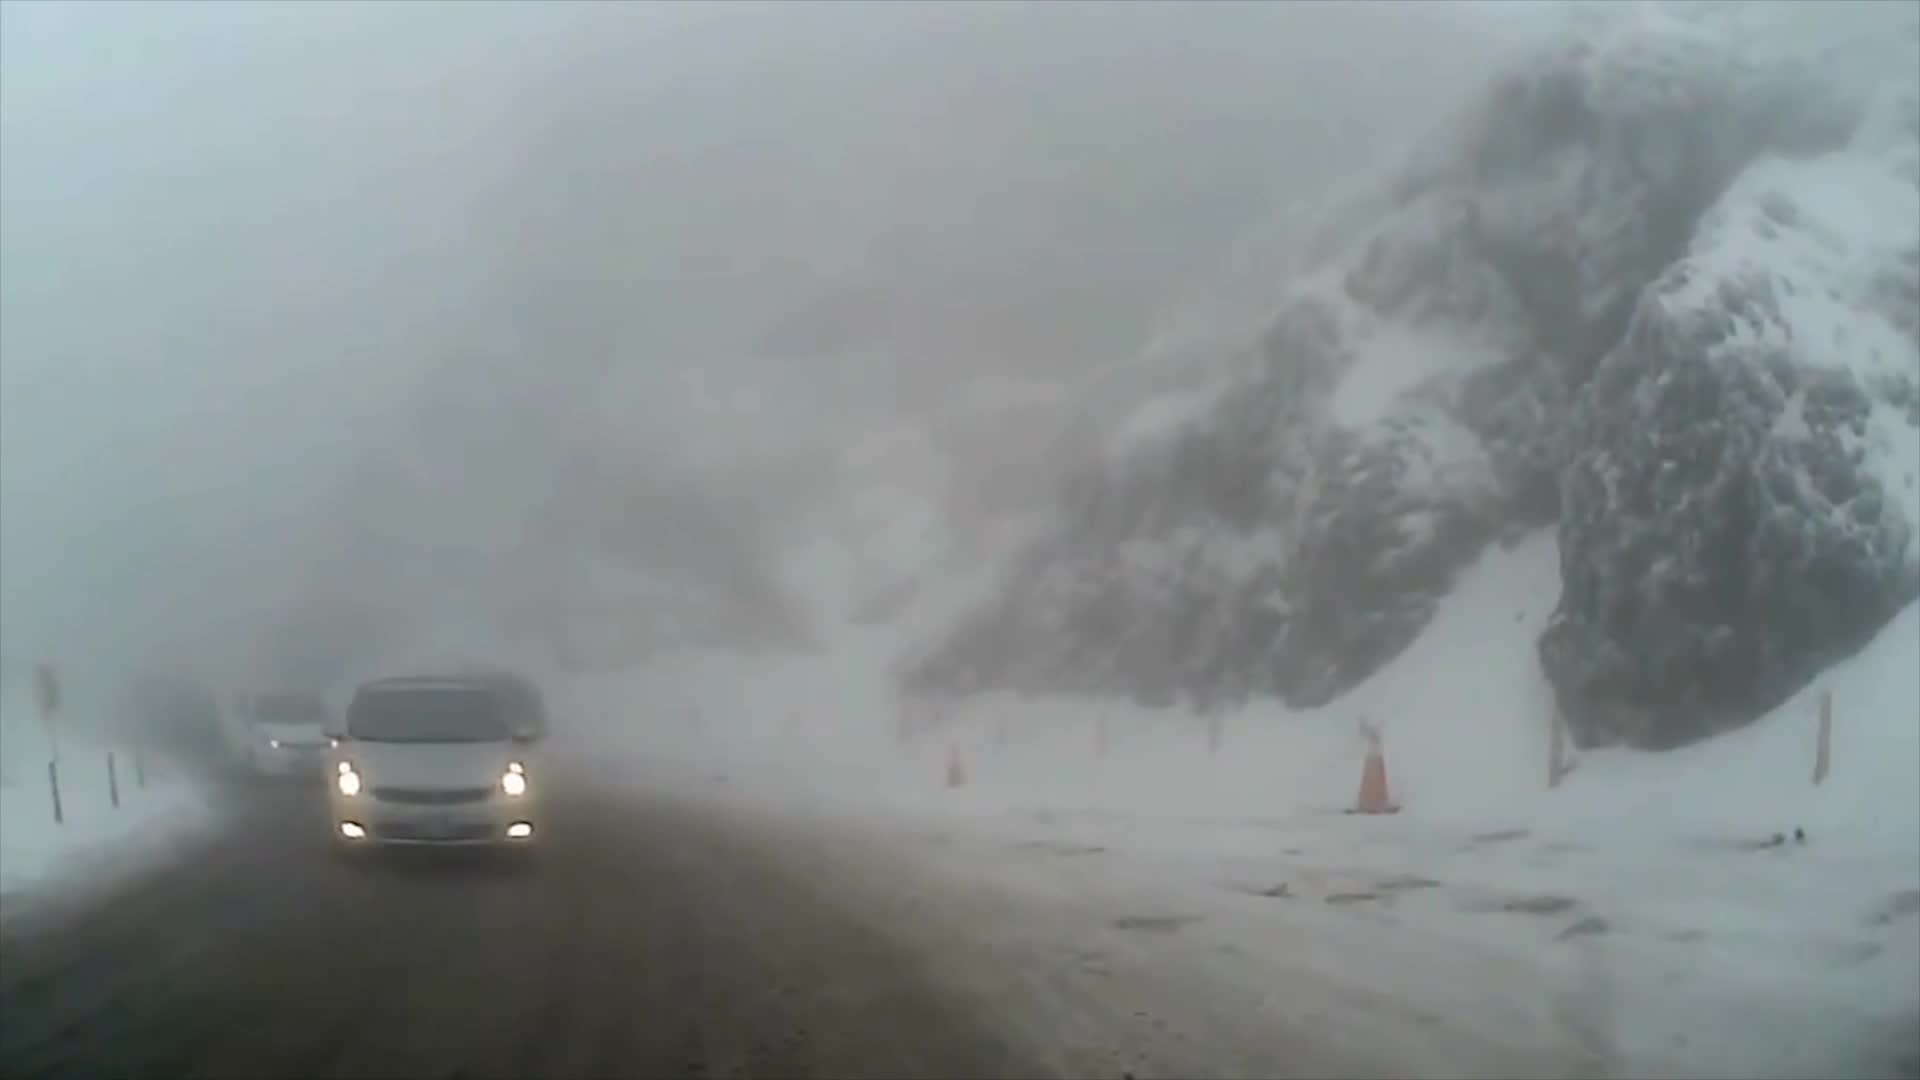vehicle: (315, 675, 539, 876), (216, 687, 352, 783)
